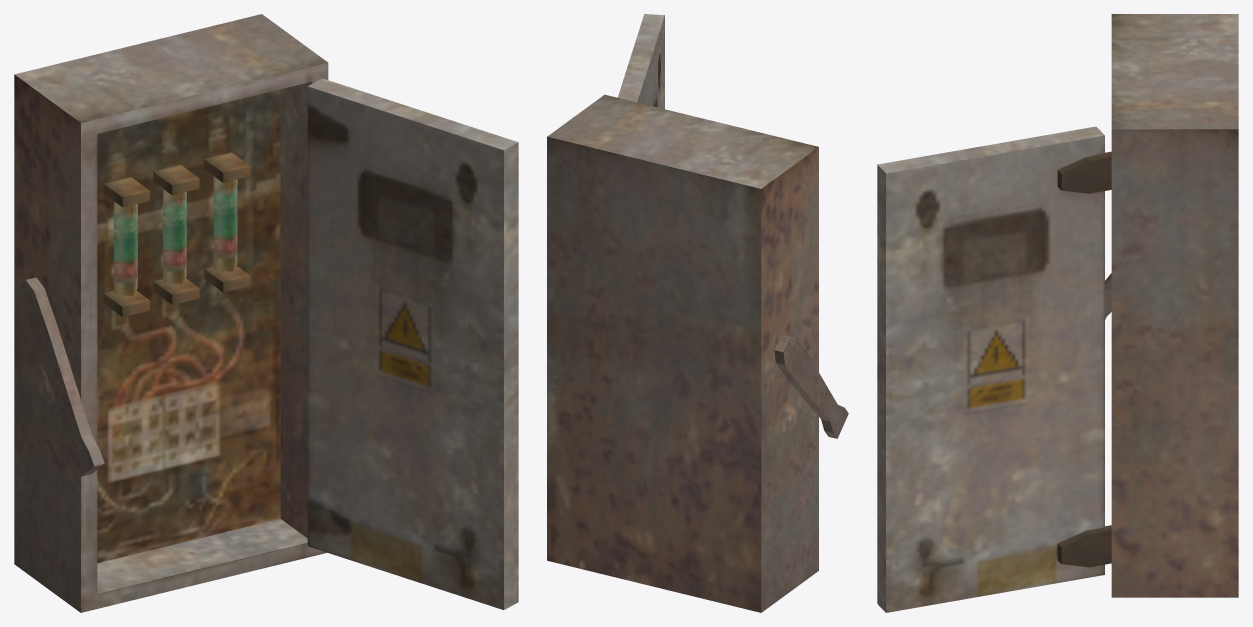
The model's file is fuseboxon.fbx.
The picture shows the model from 3 angles, left to right: view 1: azimuth 30°, elevation 25°; view 2: azimuth 150°, elevation 25°; view 3: azimuth 270°, elevation 25°; orthographic projection. The views are drawn at different scales.
Parts seen in each view (by area): view 1: Fuse_box_Top, Fuse_box_M, Fuse.002, Fuse.001, Fuse; view 2: Fuse_box_Top, Fuse_box_M; view 3: Fuse_box_Top.
Boxes of the visible parts, left/top/right/bottom form: Fuse_box_Top: left=14, top=14, right=518, bottom=612; Fuse_box_M: left=19, top=277, right=104, bottom=476; Fuse.002: left=213, top=176, right=237, bottom=271; Fuse.001: left=163, top=189, right=186, bottom=283; Fuse: left=114, top=201, right=137, bottom=295; Fuse_box_Top: left=547, top=14, right=818, bottom=612; Fuse_box_M: left=774, top=336, right=848, bottom=438; Fuse_box_Top: left=877, top=14, right=1238, bottom=612.
Bounding box in the file's own units: 55.55 × 78.71 × 55.04.
